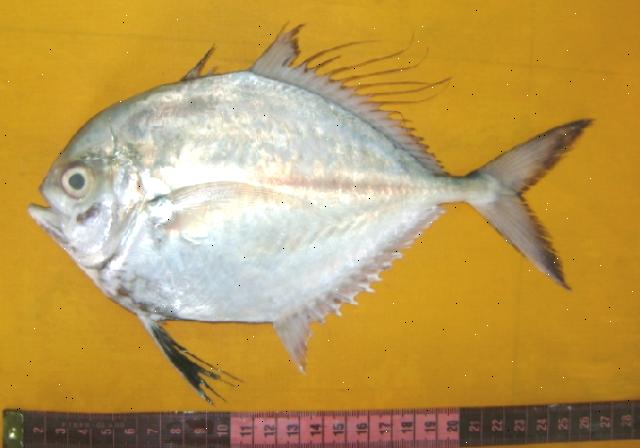Mulut: (18, 162, 72, 255)
Sirip Anal: (269, 202, 451, 378)
Sirip Dada: (147, 169, 285, 242)
Sirip Ekor: (462, 106, 600, 306)
Sirip Perut: (126, 298, 244, 406)
Sirip Punggung: (162, 23, 464, 187)
